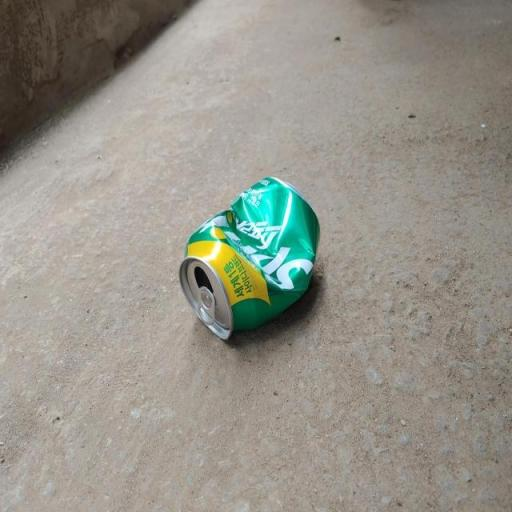metal: (170, 155, 338, 362)
